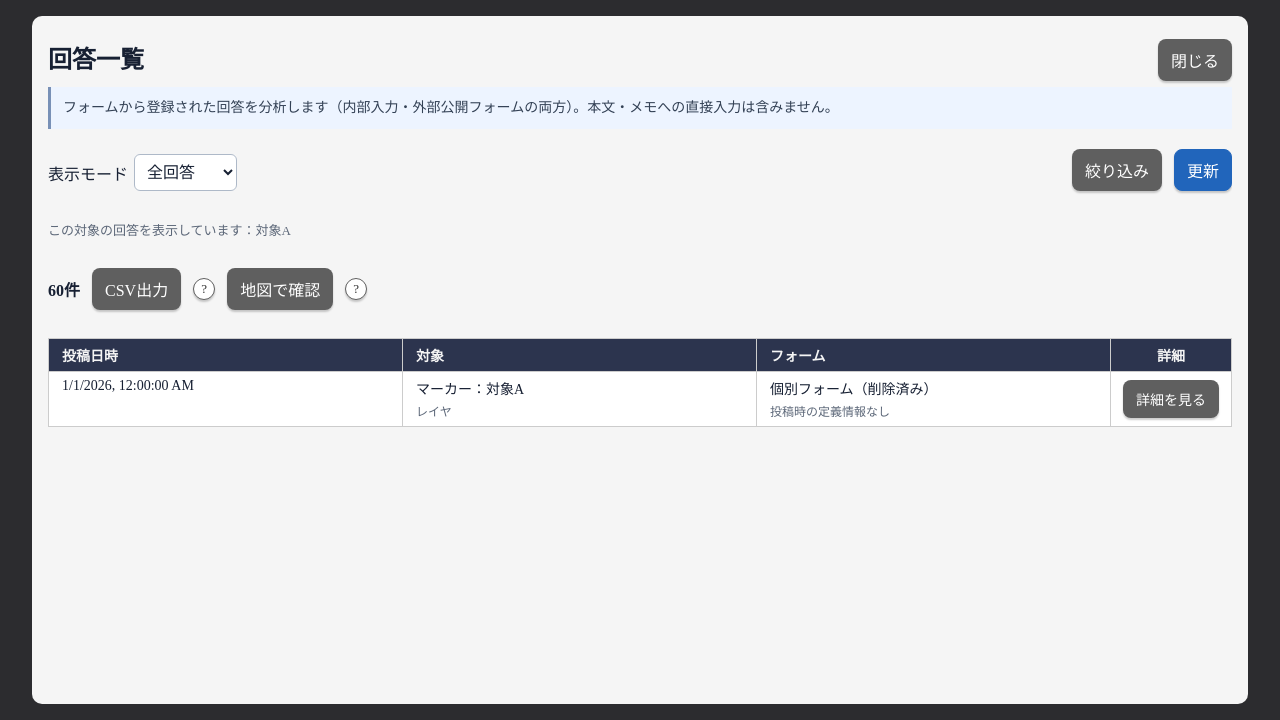
Test case: 回答一覧 › 個別対象の履歴を開き、定義なしの回答を代替項目名で表示する
Step 1. Click the button "詳細を見る" → (1171, 399), box [1123,380,1219,418]
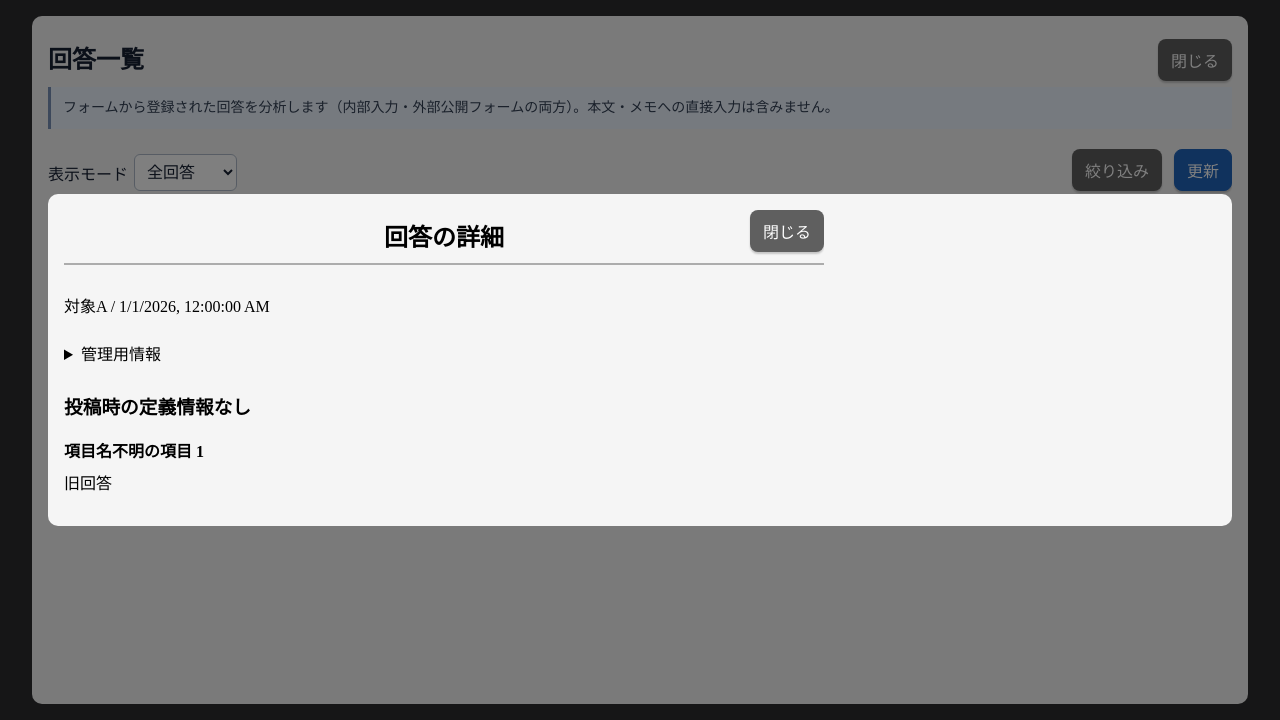
expect the element showing "項目名不明の項目 1 旧回答" is shown: met, box [64,443,204,492]
expect the text "旧回答" is shown: met, box [64,475,112,492]
